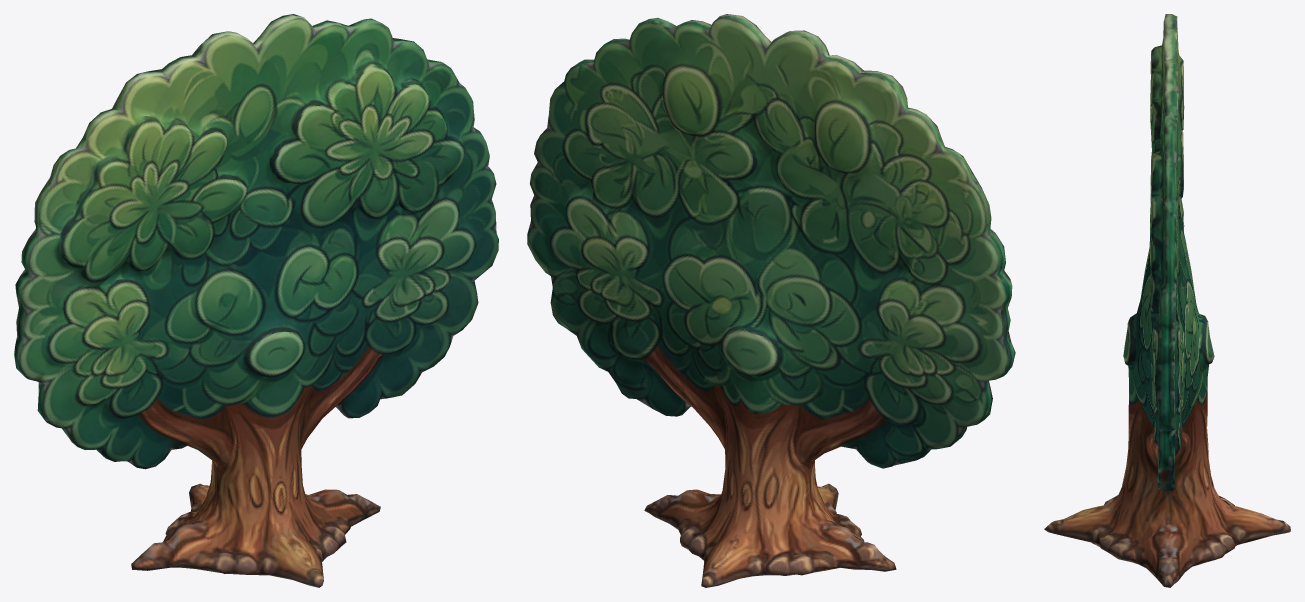
3 renders of one model, left to right at view 1: azimuth 30°, elevation 25°; view 2: azimuth 150°, elevation 25°; view 3: azimuth 270°, elevation 25°, orthographic. The views are drawn at different scales.
Parts seen in each view (by area): view 1: texture_mapping; view 2: texture_mapping; view 3: texture_mapping.
Boxes of the visible parts, x1,y1,x2,y2 form: texture_mapping: [14, 14, 498, 587]; texture_mapping: [527, 14, 1015, 587]; texture_mapping: [1044, 14, 1290, 587].
Bounding box in the file's own units: 0.9734 × 1 × 0.4589.
Materials: 1 (1 with a texture image).
